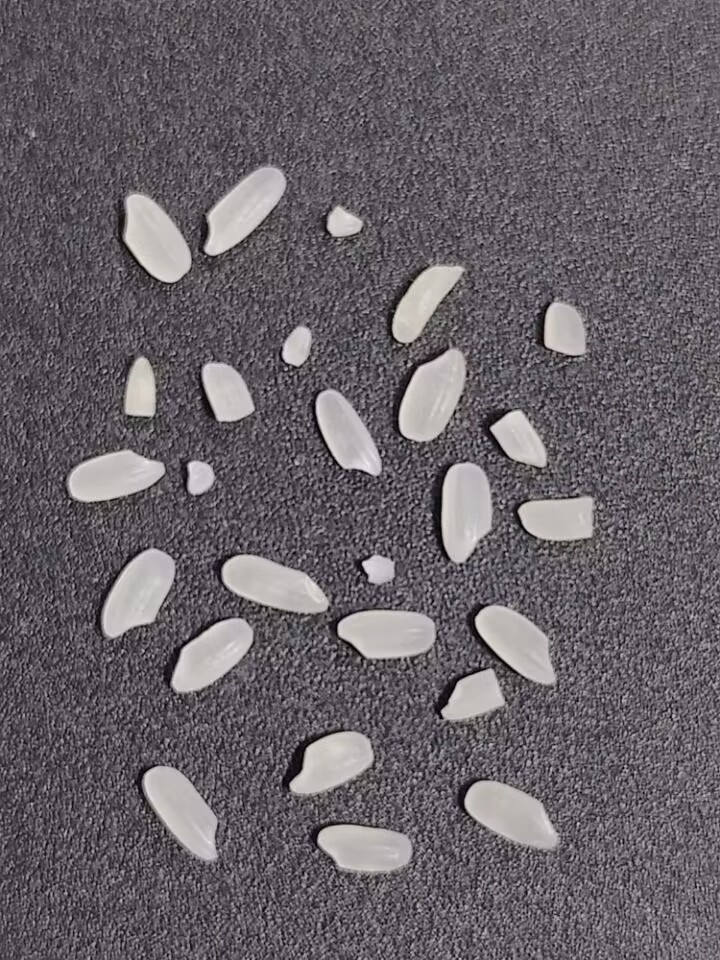broken: (198, 361, 257, 426), (518, 496, 595, 541), (490, 408, 547, 468), (441, 669, 505, 720), (541, 298, 589, 357), (120, 356, 160, 424), (278, 322, 317, 370), (356, 549, 397, 588), (182, 459, 217, 499), (326, 205, 362, 238)
rice: (138, 763, 223, 864), (217, 547, 332, 617), (430, 458, 502, 568), (305, 384, 388, 479), (393, 346, 471, 446), (202, 165, 286, 257), (99, 543, 177, 641), (474, 603, 555, 689), (170, 616, 257, 696), (119, 192, 193, 285), (465, 780, 558, 850), (285, 728, 376, 798), (390, 263, 464, 344), (66, 445, 167, 504), (336, 609, 439, 663), (316, 820, 412, 877)
